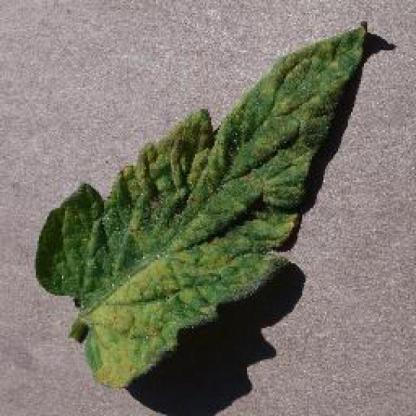Tomato_Leaf_Mold: (36, 18, 367, 388)
